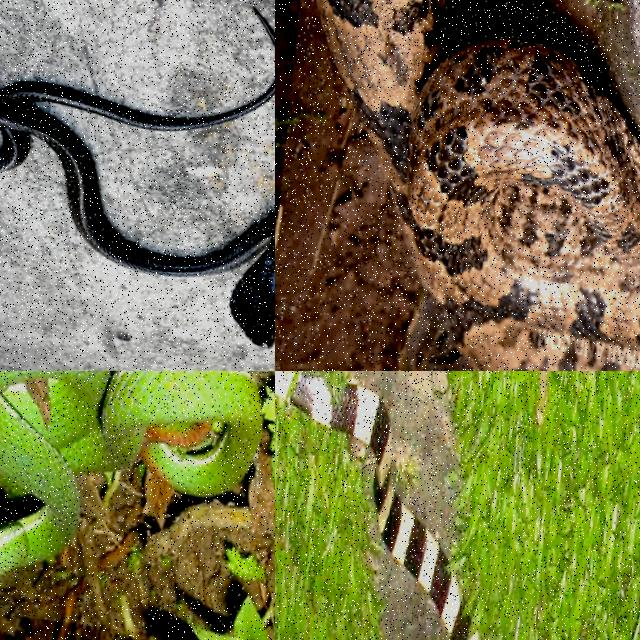Bungarus candidus: (275, 371, 475, 639)
Naja siamensis: (0, 77, 274, 346)
Ovophis monticola: (318, 0, 639, 370)
Trimeresurus: (0, 371, 261, 574)
snake: (318, 0, 639, 370), (0, 77, 274, 346), (275, 371, 475, 639), (0, 371, 261, 574)
